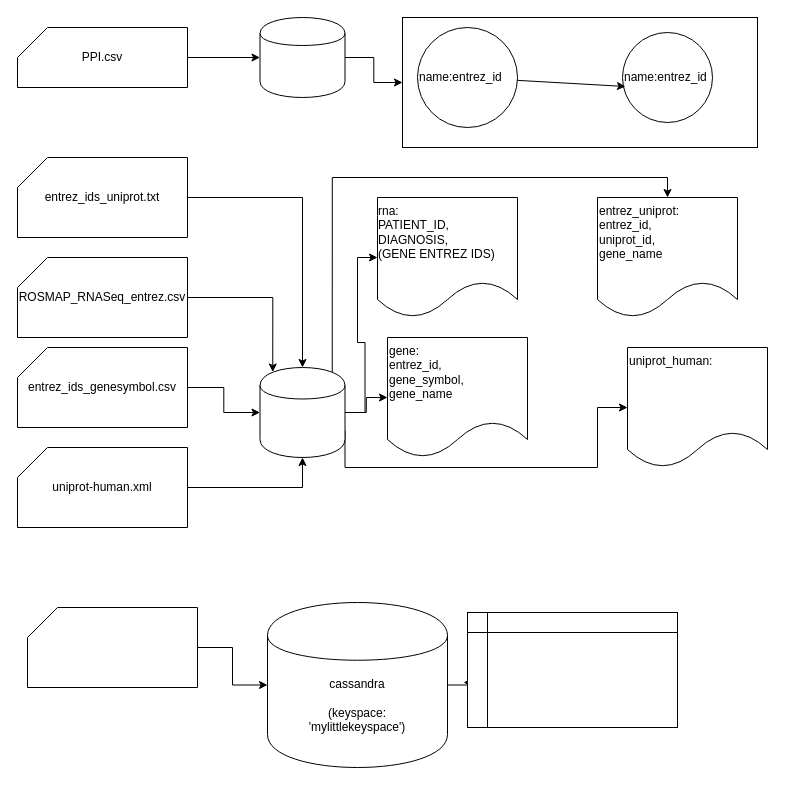
This 785x785 diagram has some shape labels left out. Each missing label, with the centre of its shape:
mongo, (database: 'values'): (x=302, y=412)
neo4j: (x=302, y=57)
patient: patient_id, age, education,: (x=572, y=670)
patients.csv: (x=112, y=647)
